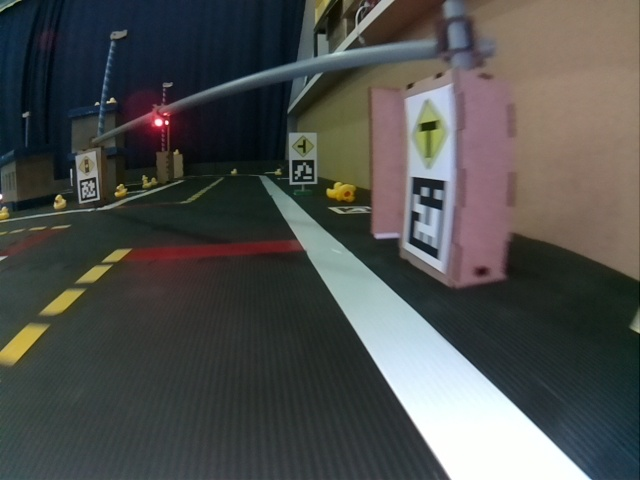Duckie: (338, 185, 355, 200), (327, 182, 343, 197), (53, 195, 66, 210), (275, 168, 284, 178), (231, 168, 240, 177), (114, 188, 124, 196), (143, 180, 151, 184)
Intersection sign: (408, 96, 450, 163), (290, 135, 316, 158)
QR code: (290, 159, 315, 183), (78, 178, 98, 201), (329, 206, 371, 215)
Signal sign: (77, 155, 98, 176)
Traffic light: (153, 114, 170, 127)
